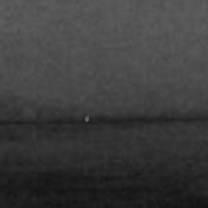Target: (84, 115, 90, 122)
